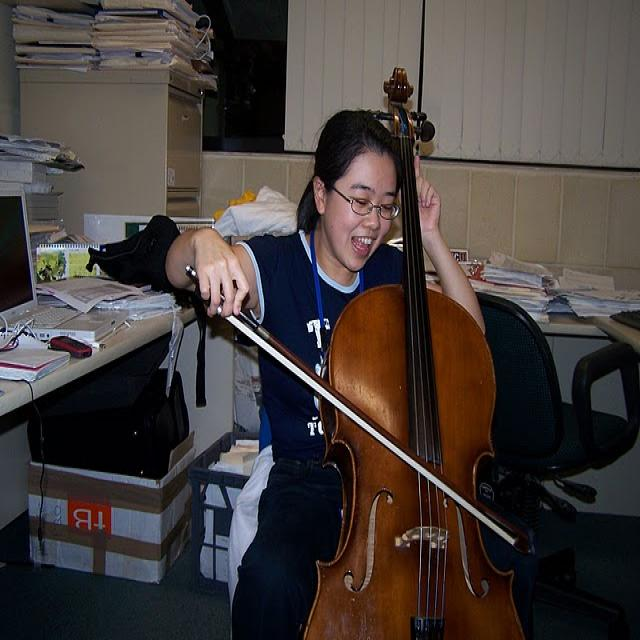cello: (296, 69, 526, 638)
